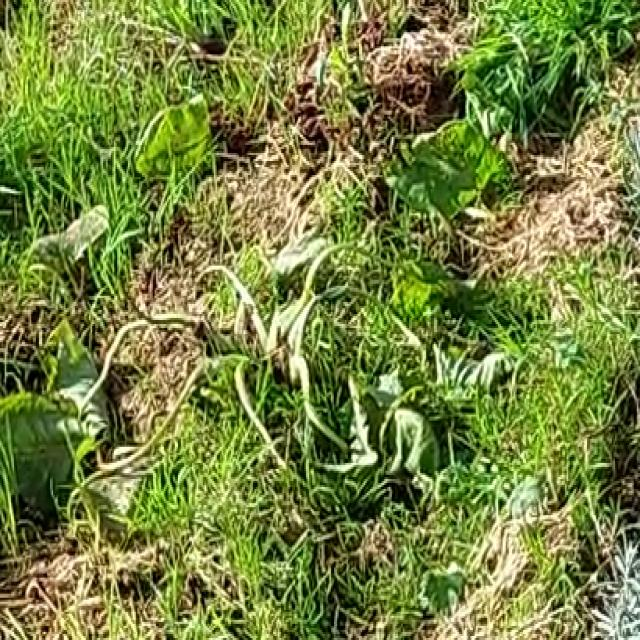organic waste: (0, 96, 546, 511)
